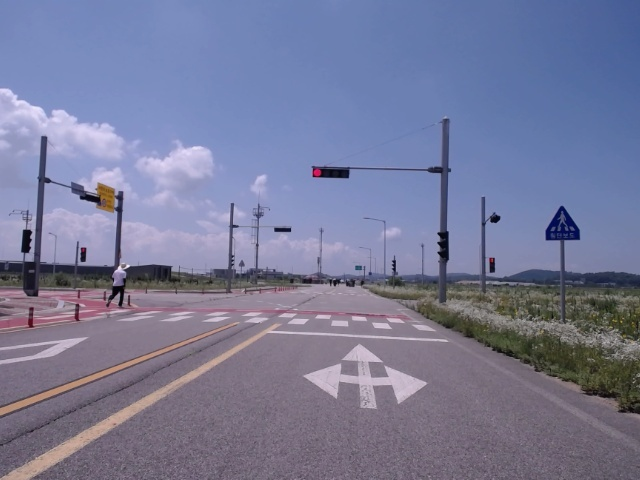red_4: (313, 168, 349, 178)
